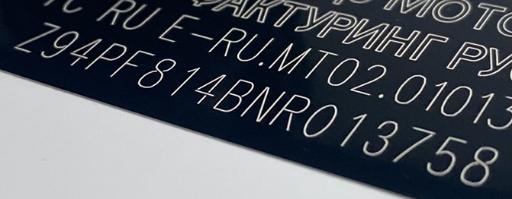letter: (392, 125, 438, 163), (426, 136, 466, 177), (460, 145, 498, 188), (242, 86, 286, 121), (13, 22, 61, 54), (270, 94, 310, 131), (213, 79, 255, 112), (362, 120, 400, 155), (110, 50, 154, 78), (302, 103, 338, 137), (137, 57, 175, 88), (84, 43, 126, 70), (336, 112, 368, 147), (40, 31, 78, 59), (169, 66, 201, 96), (194, 75, 226, 104), (70, 38, 102, 66)
